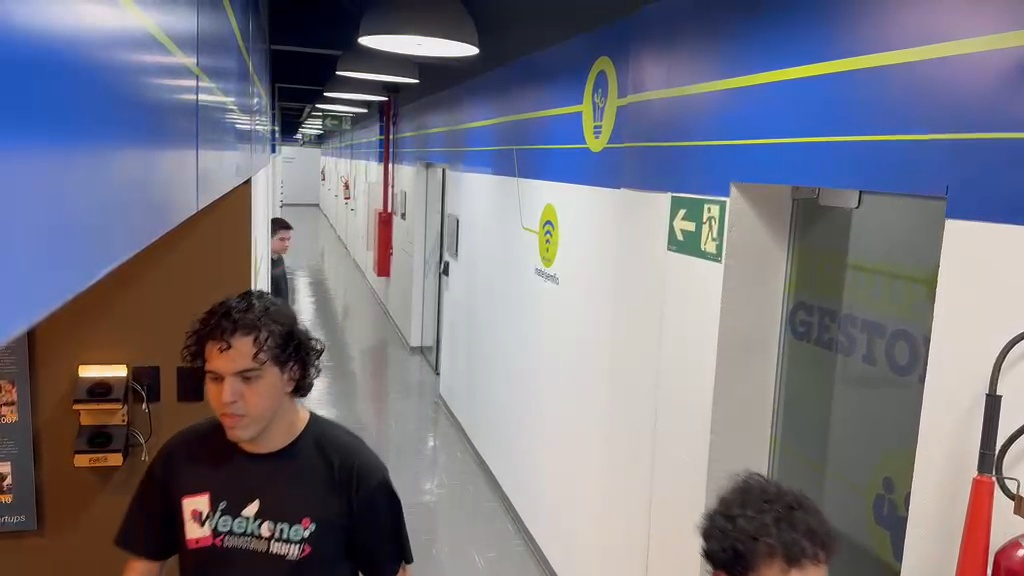person: (112, 288, 416, 573), (698, 473, 843, 574), (270, 217, 294, 305)
